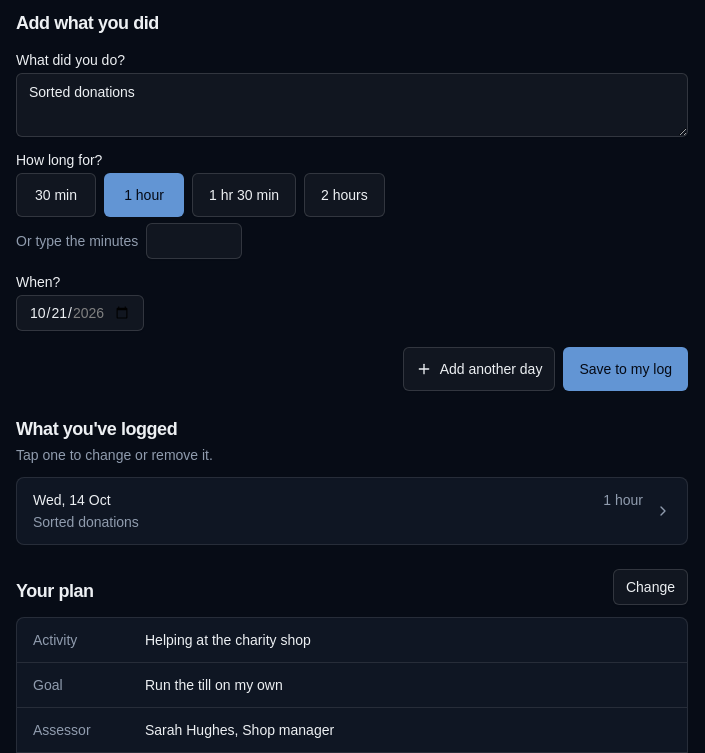
logging a week › no signal is an error they can retry, not a crash
(page scrolled)
Click the button "Save to my log".
click(626, 369)  # box [563,347,688,391]
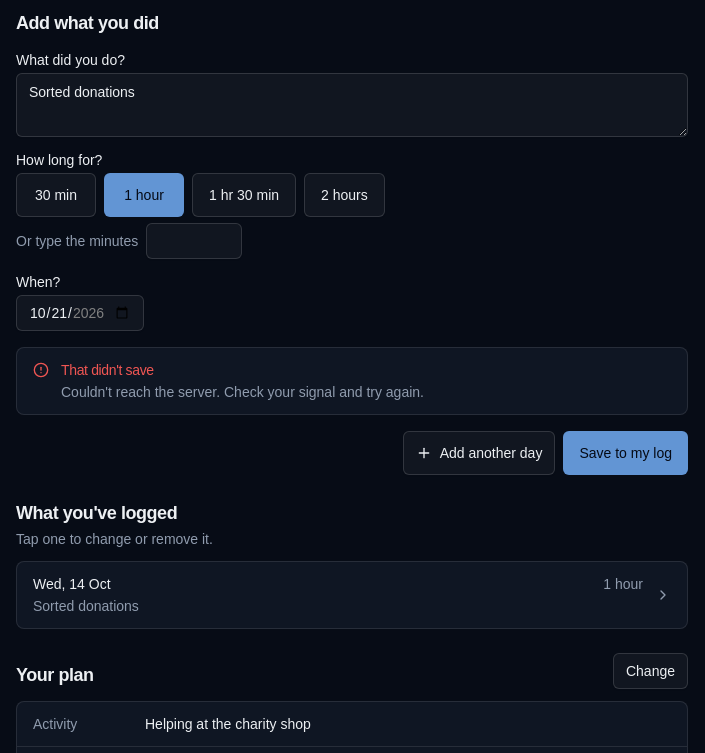
Check: the text "Couldn't reach the server. Check your signal and try again." is shown, box [61,384,424,400]
